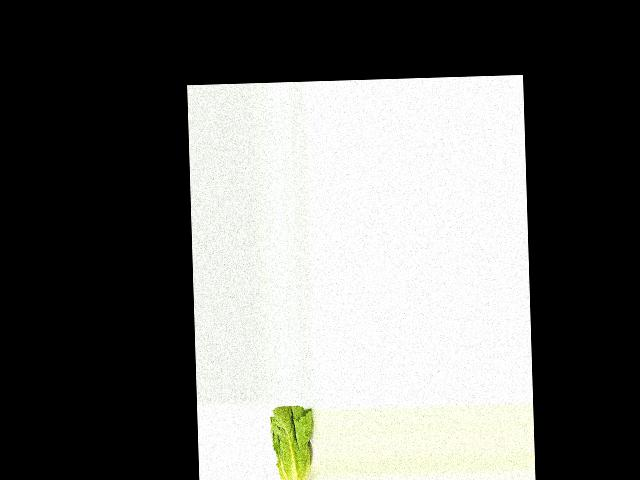lettuce: (268, 404, 315, 480)
